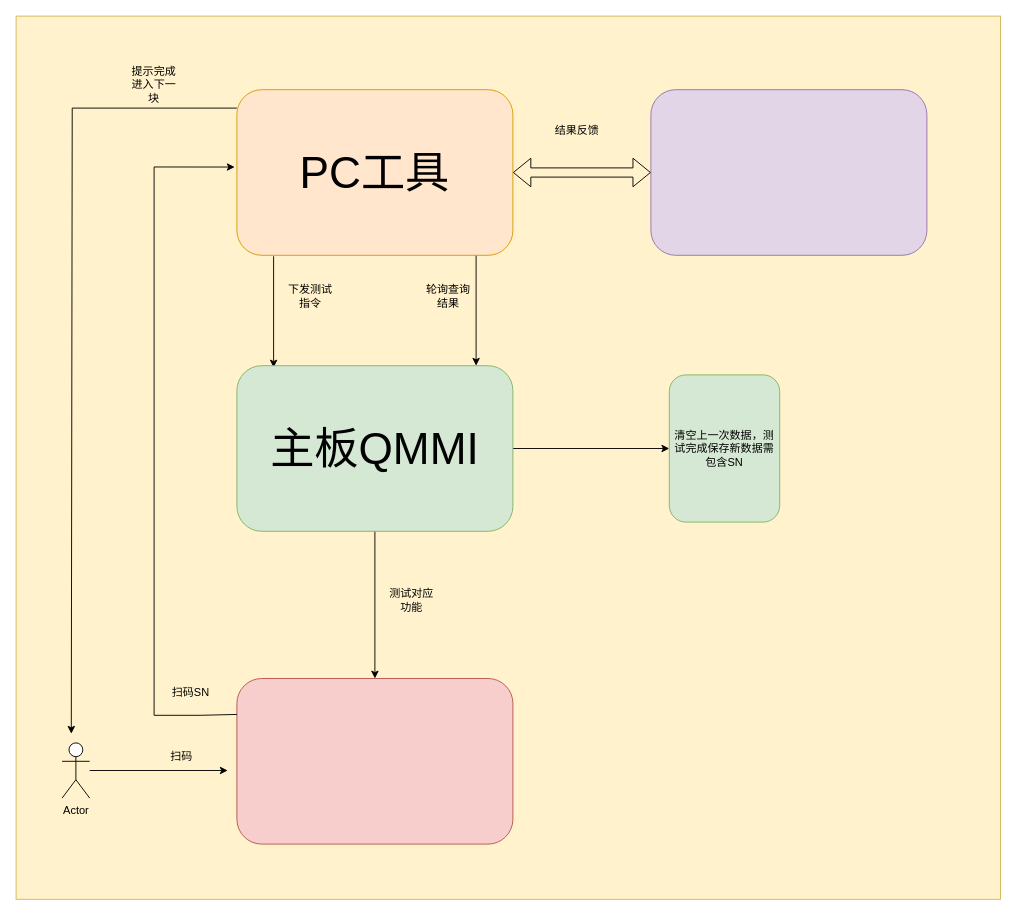
This 1017x915 diagram has some shape labels left out. The shapes that lost their labels are listed below. From the top down, each one's box as (x1, y1, x2, y2) in pixels, then its label:
(650, 89, 927, 255): 服务器
(236, 678, 513, 844): 测试小板
